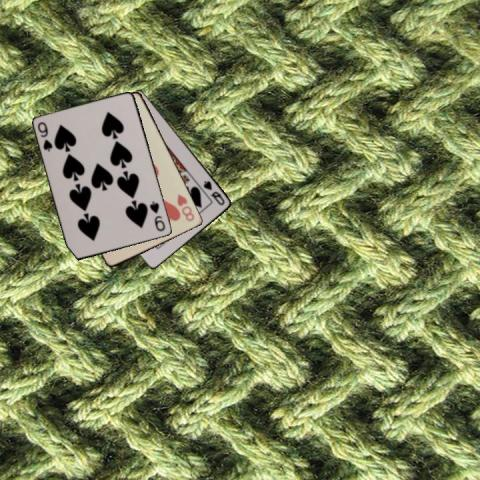8h: (175, 191, 196, 222)
9s: (146, 198, 166, 233), (35, 119, 54, 153)
Qs: (200, 177, 226, 207)
